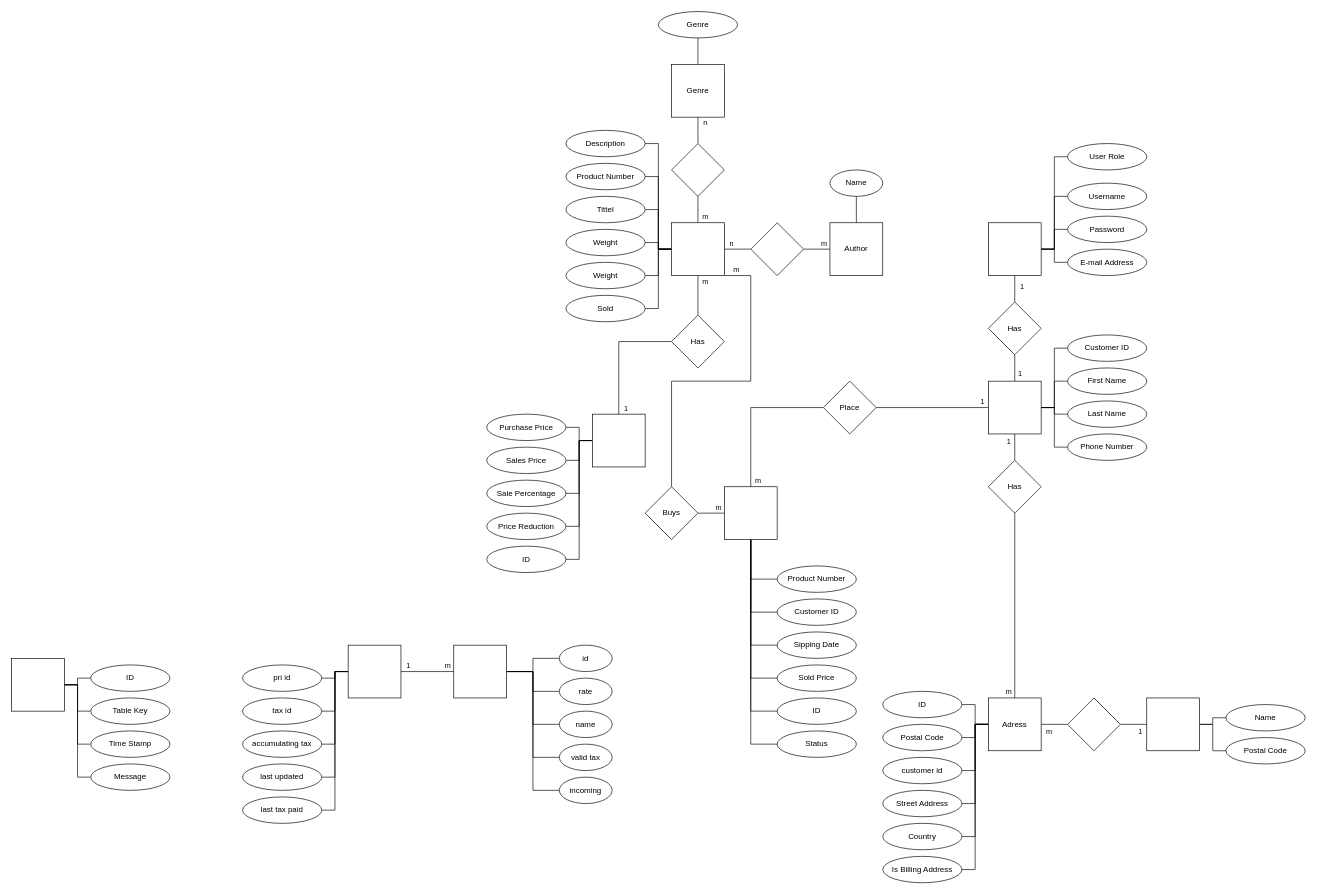
Some shapes in this 1317 by 894 pixel diagram are drawn without their labels. The shapes that lost their labels are listed below. From the top down, each one's centre as x and y in pixels, then its label:
the point at 697,169: Have
the point at 697,249: Book
the point at 777,249: Write
the point at 1014,249: Account
the point at 1014,407: User
the point at 618,440: Pricing
the point at 750,513: Order
the point at 37,684: bogreden log
the point at 374,671: Taxes
the point at 480,671: Tax
the point at 1093,724: Is in a
the point at 1173,724: City
